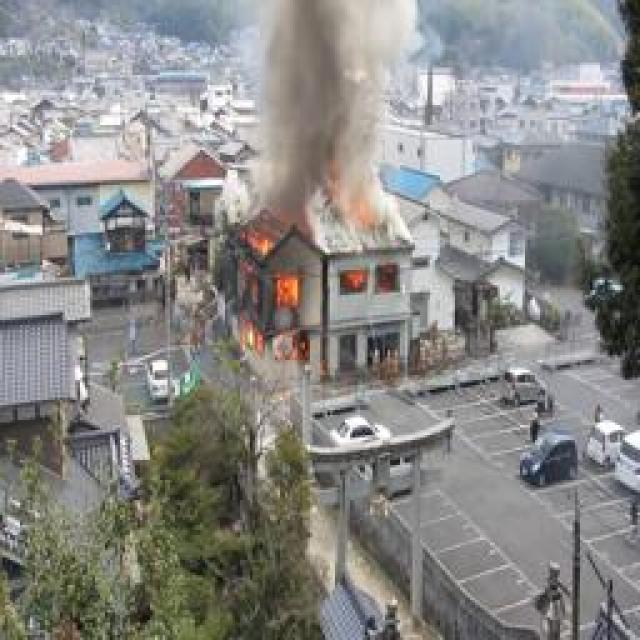fire: (233, 222, 315, 367), (319, 163, 392, 234), (336, 272, 368, 298)
